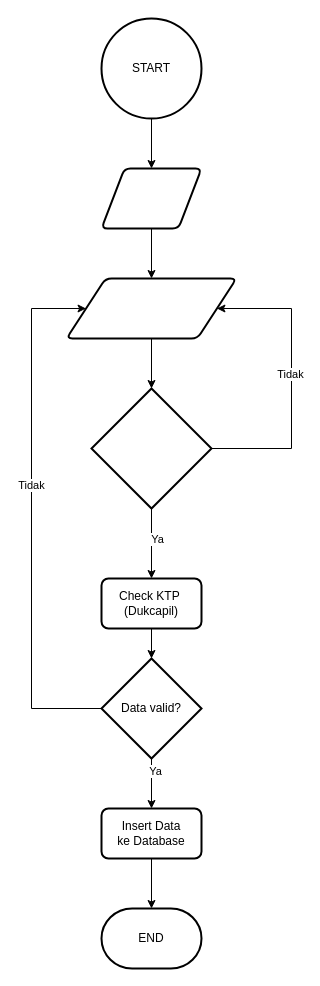
The diagram is 320 pixels wide and 986 high, and some of its shapes have lost their labels. Each missing label, with the centre of its shape:
"Data diri lengkap ?" belongs at (x=151, y=448).
"Input Semua Data diri" belongs at (x=151, y=308).
"User Klick Registrasi" belongs at (x=151, y=198).
